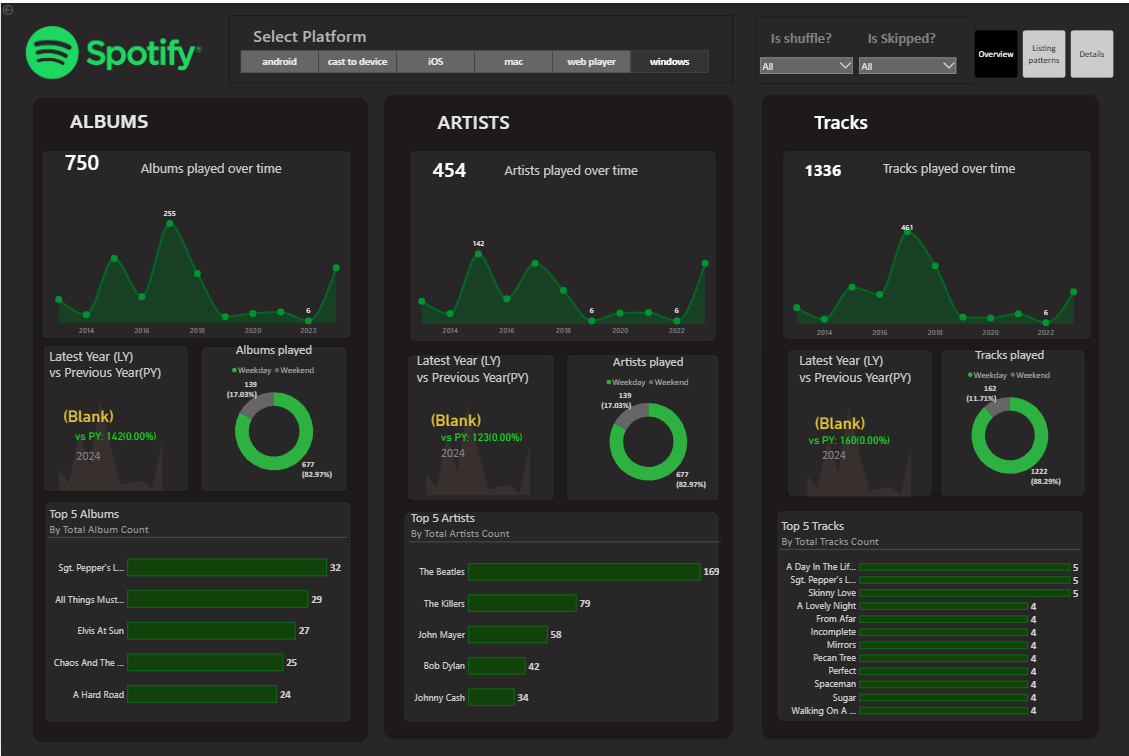

Layout of this report page (visuals, bound fields, positions):
{"tool":"powerbi","page":{"name":"Overview","canvas":[3300,2200],"ordinal":0},"visuals":[{"type":"shape","box":[665.3,35,1470.6,199],"z":0},{"type":"shape","box":[1199.2,984.8,424.5,428.9],"z":1000},{"type":"image","box":[43.7,48.6,573,200],"z":2000},{"type":"shape","box":[91.9,275.7,980.4,1882],"z":3000},{"type":"shape","box":[118.2,428.9,906,551.5],"z":4000},{"type":"textbox","box":[389.5,450.8,447.1,87.5],"z":5000},{"type":"cardVisual","fields":{"Data":["spotify_history.No on Albums"]},"box":[157.6,407,194.4,111.8],"z":6000},{"type":"textbox","box":[135.7,302,359.7,102.1],"z":7000},{"type":"areaChart","fields":{"Category":["Date Table.Year"],"Y":["spotify_history.No on Albums"]},"box":[140.1,577.7,866.6,402.7],"z":8000},{"type":"shape","box":[122.5,997.9,424.5,428.9],"z":9000},{"type":"areaChart","fields":{"Category":["Date Table.Year"],"Y":["spotify_history.No on Albums"]},"box":[121.5,1098.4,393.7,330.5],"z":10000},{"type":"textbox","box":[136.1,996.3,393.7,145.8],"z":11000},{"type":"card","fields":{"Values":["spotify_history.LatestYearAlbums"]},"box":[155.5,1142.1,194.4,111.8],"z":12000},{"type":"card","fields":{"Values":["spotify_history.PY and YoY Albums KPI"]},"box":[194.4,1200.5,281.9,121.5],"z":13000},{"type":"slicer","fields":{"Values":["spotify_history.platform"]},"box":[674,131.3,1413.7,78.8],"z":14000},{"type":"card","fields":{"Values":["spotify_history.Max Year"]},"box":[155.5,1263.7,194.4,111.8],"z":15000},{"type":"shape","box":[582.1,1002.3,428.9,424.5],"z":16000},{"type":"donutChart","title":"Albums played","fields":{"Category":["Date Table.Weekday_Weekend"],"Y":["spotify_history.No on Albums"]},"box":[582.1,989.1,428.9,424.5],"z":17000},{"type":"shape","box":[126.9,1453.1,897.2,647.8],"z":18000},{"type":"barChart","title":"Top 5 Albums","fields":{"Category":["spotify_history.album_name"],"Y":["CountNonNull(spotify_history.album_name)"]},"box":[135.7,1466.2,875.3,621.5],"z":19000},{"type":"shape","box":[1116.1,267,1019.8,1882],"z":20000},{"type":"shape","box":[2219,267,984.8,1882],"z":21000},{"type":"textbox","box":[1199.2,302,359.7,102.1],"z":22000},{"type":"shape","box":[1650,1024.2,446.4,428.9],"z":23000},{"type":"donutChart","title":"Artists played","fields":{"Category":["Date Table.Weekday_Weekend"],"Y":["spotify_history.No on Albums"]},"box":[1663.2,1024.2,450.8,415.8],"z":24000},{"type":"shape","box":[1190.5,428.9,897.2,560.2],"z":25000},{"type":"areaChart","fields":{"Category":["Date Table.Year"]},"box":[1216.7,577.7,865,355],"z":26000},{"type":"cardVisual","fields":{"Data":["spotify_history.No Of Artists"]},"box":[1229.9,428.9,194.4,111.8],"z":27000},{"type":"shape","box":[1186.1,1024.2,428.9,428.9],"z":28000},{"type":"textbox","box":[1440,455.2,447.1,87.5],"z":29000},{"type":"areaChart","fields":{"Category":["Date Table.Year"],"Y":["spotify_history.No on Albums"]},"box":[1194.9,1113.1,393.7,330.5],"z":30000},{"type":"card","fields":{"Values":["spotify_history.Max Year"]},"box":[1221.1,1256.1,194.4,111.8],"z":31000},{"type":"textbox","box":[1209.4,1011,393.7,145.8],"z":32000},{"type":"shape","box":[1173,1483.7,923.5,617.1],"z":33000},{"type":"card","fields":{"Values":["spotify_history.PY and YoY Artists KPI"]},"box":[1259.5,1203.5,281.9,121.5],"z":34000},{"type":"barChart","title":"Top 5 Artists","fields":{"Category":["spotify_history.artist_name"],"Y":["CountNonNull(spotify_history.artist_name)"]},"box":[1190.5,1479.3,910.4,617.1],"z":35000},{"type":"areaChart","fields":{"Category":["Date Table.Year"],"Y":["spotify_history.No Of Artists"]},"box":[1199.2,634.6,884.1,345.8],"z":36000},{"type":"shape","box":[2280.3,428.9,903.3,553.5],"z":37000},{"type":"textbox","box":[2542.9,450.8,447.1,87.5],"z":38000},{"type":"card","fields":{"Values":["spotify_history.LatestYearArtists"]},"box":[1231.1,1154.3,194.4,111.8],"z":39000},{"type":"cardVisual","fields":{"Data":["spotify_history.No of Tracks"]},"box":[2315.3,428.9,194.4,111.8],"z":40000},{"type":"textbox","box":[2271.5,302,359.7,102.1],"z":41000},{"type":"areaChart","fields":{"Category":["Date Table.Year"],"Y":["spotify_history.No of Tracks"]},"box":[2293.4,630.3,865,355],"z":42000},{"type":"shape","box":[2293.4,1011,424.5,428.9],"z":43000},{"type":"areaChart","fields":{"Category":["Date Table.Year"],"Y":["spotify_history.No on Albums"]},"box":[2306.5,1115.5,393.7,330.5],"z":44000},{"type":"card","fields":{"Values":["spotify_history.PY and YoY Tracks KPI"]},"box":[2332.8,1212.4,281.9,121.5],"z":45000},{"type":"textbox","box":[2322.2,1011,393.7,145.8],"z":46000},{"type":"card","fields":{"Values":["spotify_history.Max Year"]},"box":[2332.8,1260.5,194.4,111.8],"z":47000},{"type":"shape","box":[2739.8,1011,424.5,428.9],"z":48000},{"type":"donutChart","title":"Tracks played","fields":{"Category":["Date Table.Weekday_Weekend"],"Y":["spotify_history.No of Tracks"]},"box":[2739.8,1002.3,407.3,422.9],"z":49000},{"type":"shape","box":[2262.8,1479.3,897.2,617.1],"z":50000},{"type":"card","fields":{"Values":["spotify_history.LatestYearTracks"]},"box":[2348.3,1162.5,194.4,111.8],"z":51000},{"type":"barChart","title":"Top 5 Tracks","fields":{"Category":["spotify_history.track_name"],"Y":["CountNonNull(spotify_history.track_name)"]},"box":[2271.5,1501.2,877.2,595.3],"z":52000},{"type":"textbox","box":[2166.5,65.7,446.4,83.2],"z":53000},{"type":"shape","box":[2201.5,39.4,639,197],"z":54000},{"type":"slicer","fields":{"Values":["spotify_history.shuffle"]},"box":[2205.9,131.3,288.9,78.8],"z":55000},{"type":"slicer","fields":{"Values":["spotify_history.skipped"]},"box":[2494.7,131.3,302,78.8],"z":56000},{"type":"textbox","box":[679.6,58.1,446.4,83.2],"z":57000},{"type":"textbox","box":[2205.9,70,258.2,83.2],"z":58000},{"type":"textbox","box":[2499.1,70,258.2,83.2],"z":59000},{"type":"actionButton","box":[0,0,100,40],"z":60000},{"type":"pageNavigator","box":[2840.5,78.8,407,140.1],"z":61000}]}

Visuals, with their boxes in screenshot pixels (x1, y1, x2, y2), scaled from the page's 3300x2200 canvas onto the 1129x756 screenshot:
shape: crop(228, 12, 731, 80)
shape: crop(410, 338, 556, 486)
image: crop(15, 17, 211, 85)
shape: crop(31, 95, 367, 741)
shape: crop(40, 147, 350, 337)
textbox: crop(133, 155, 286, 185)
cardVisual - spotify_history.No on Albums: crop(54, 140, 120, 178)
textbox: crop(46, 104, 169, 139)
areaChart - Date Table.Year x spotify_history.No on Albums: crop(48, 199, 344, 337)
shape: crop(42, 343, 187, 490)
areaChart - Date Table.Year x spotify_history.No on Albums: crop(42, 377, 176, 491)
textbox: crop(47, 342, 181, 392)
card - spotify_history.LatestYearAlbums: crop(53, 392, 120, 431)
card - spotify_history.PY and YoY Albums KPI: crop(67, 413, 163, 454)
slicer - spotify_history.platform: crop(231, 45, 714, 72)
card - spotify_history.Max Year: crop(53, 434, 120, 473)
shape: crop(199, 344, 346, 490)
"Albums played" donutChart: crop(199, 340, 346, 486)
shape: crop(43, 499, 350, 722)
"Top 5 Albums" barChart: crop(46, 504, 346, 717)
shape: crop(382, 92, 731, 738)
shape: crop(759, 92, 1096, 738)
textbox: crop(410, 104, 533, 139)
shape: crop(564, 352, 717, 499)
"Artists played" donutChart: crop(569, 352, 723, 495)
shape: crop(407, 147, 714, 340)
areaChart - Date Table.Year: crop(416, 199, 712, 321)
cardVisual - spotify_history.No Of Artists: crop(421, 147, 487, 186)
shape: crop(406, 352, 553, 499)
textbox: crop(493, 156, 646, 186)
areaChart - Date Table.Year x spotify_history.No on Albums: crop(409, 383, 543, 496)
card - spotify_history.Max Year: crop(418, 432, 484, 470)
textbox: crop(414, 347, 548, 398)
shape: crop(401, 510, 717, 722)
card - spotify_history.PY and YoY Artists KPI: crop(431, 414, 527, 455)
"Top 5 Artists" barChart: crop(407, 508, 719, 720)
areaChart - Date Table.Year x spotify_history.No Of Artists: crop(410, 218, 713, 337)
shape: crop(780, 147, 1089, 338)
textbox: crop(870, 155, 1023, 185)
card - spotify_history.LatestYearArtists: crop(421, 397, 488, 435)
cardVisual - spotify_history.No of Tracks: crop(792, 147, 859, 186)
textbox: crop(777, 104, 900, 139)
areaChart - Date Table.Year x spotify_history.No of Tracks: crop(785, 217, 1081, 339)
shape: crop(785, 347, 930, 495)
areaChart - Date Table.Year x spotify_history.No on Albums: crop(789, 383, 924, 497)
card - spotify_history.PY and YoY Tracks KPI: crop(798, 417, 895, 458)
textbox: crop(794, 347, 929, 398)
card - spotify_history.Max Year: crop(798, 433, 865, 472)
shape: crop(937, 347, 1083, 495)
"Tracks played" donutChart: crop(937, 344, 1077, 490)
shape: crop(774, 508, 1081, 720)
card - spotify_history.LatestYearTracks: crop(803, 399, 870, 438)
"Top 5 Tracks" barChart: crop(777, 516, 1077, 720)
textbox: crop(741, 23, 894, 51)
shape: crop(753, 14, 972, 81)
slicer - spotify_history.shuffle: crop(755, 45, 854, 72)
slicer - spotify_history.skipped: crop(853, 45, 957, 72)
textbox: crop(233, 20, 385, 49)
textbox: crop(755, 24, 843, 53)
textbox: crop(855, 24, 943, 53)
actionButton: crop(0, 0, 34, 14)
pageNavigator: crop(972, 27, 1111, 75)
